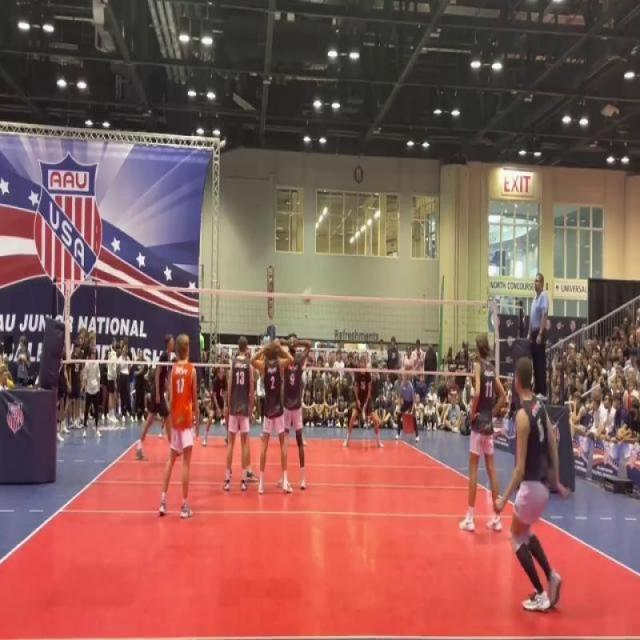volleyball: (300, 289, 313, 305)
